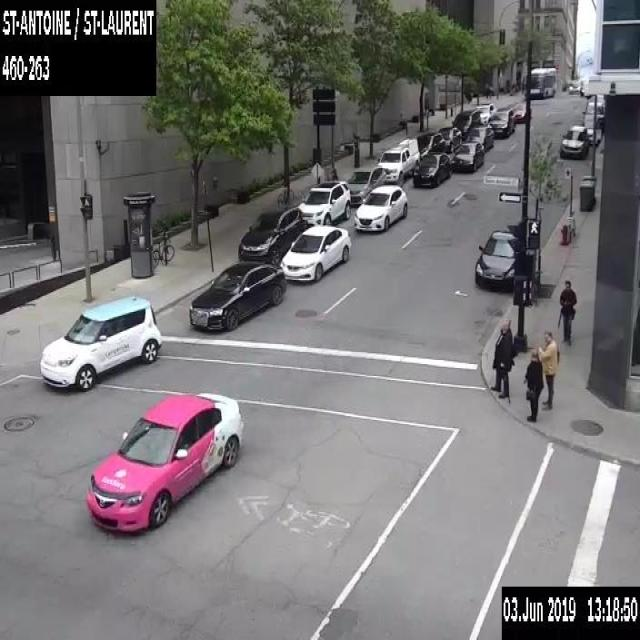bus: (524, 66, 556, 97)
construction: (310, 161, 322, 183), (324, 166, 331, 180)
pedestrian: (490, 317, 513, 400), (538, 330, 560, 410), (521, 348, 543, 422), (558, 278, 576, 342)
vehicle: (84, 391, 244, 533), (38, 293, 162, 392), (188, 259, 286, 331), (279, 224, 350, 281), (238, 207, 302, 264), (474, 228, 518, 291), (296, 180, 351, 227), (353, 183, 407, 230), (376, 136, 419, 185), (346, 164, 385, 205), (412, 150, 452, 186), (449, 140, 484, 171), (558, 123, 588, 158), (416, 131, 445, 161), (451, 109, 479, 140), (487, 108, 516, 136), (464, 125, 494, 151), (580, 101, 604, 128), (437, 125, 461, 152), (472, 102, 496, 125), (580, 120, 601, 144), (511, 104, 531, 122), (568, 80, 580, 93), (580, 85, 590, 97)
